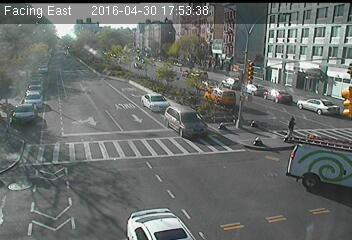neg: (68, 178, 107, 230), (172, 132, 206, 178), (311, 164, 345, 210), (296, 78, 324, 115), (207, 112, 234, 148), (149, 29, 173, 61), (111, 97, 134, 127), (38, 130, 59, 159), (207, 40, 227, 67), (247, 61, 266, 87), (256, 7, 275, 32), (63, 57, 79, 79), (162, 201, 178, 222)
pos: (280, 116, 301, 144)
